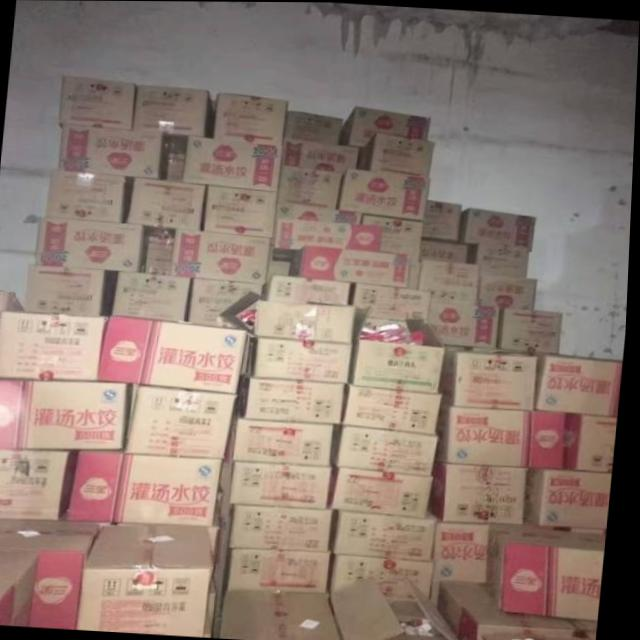box: (82, 524, 218, 637), (72, 450, 226, 526), (0, 519, 105, 630), (491, 524, 611, 621), (102, 316, 250, 391), (0, 378, 132, 450), (444, 578, 584, 640), (352, 306, 449, 394), (439, 405, 571, 469), (127, 385, 242, 458), (334, 576, 465, 640), (220, 533, 335, 600), (0, 311, 109, 381), (223, 496, 339, 551), (226, 589, 347, 640), (39, 218, 151, 273), (60, 125, 172, 179), (444, 348, 540, 410), (435, 463, 532, 523), (540, 352, 626, 417), (223, 459, 336, 508), (185, 135, 283, 191), (172, 229, 273, 283), (338, 425, 441, 477), (335, 510, 440, 561), (530, 467, 616, 529), (334, 467, 438, 518), (0, 449, 74, 520), (291, 245, 411, 287), (230, 418, 337, 465), (274, 218, 385, 263), (345, 385, 446, 434), (244, 376, 347, 424), (436, 521, 493, 606), (333, 555, 438, 600), (341, 167, 430, 220), (364, 213, 425, 288), (257, 336, 354, 383), (258, 299, 360, 342), (46, 170, 128, 222), (129, 177, 207, 230), (133, 83, 211, 136), (28, 265, 106, 316), (115, 271, 193, 322), (62, 76, 137, 128), (205, 185, 278, 238), (216, 93, 290, 145), (190, 278, 265, 328), (342, 106, 433, 146), (359, 132, 437, 176), (462, 207, 537, 252), (355, 283, 433, 325), (0, 550, 42, 627), (570, 412, 621, 471), (280, 166, 344, 208), (284, 137, 360, 171), (267, 275, 353, 305), (421, 260, 481, 302), (500, 308, 557, 352), (428, 298, 480, 346), (481, 273, 540, 309), (279, 199, 365, 223), (470, 243, 529, 276), (287, 110, 343, 143), (425, 199, 464, 242), (423, 238, 473, 262), (477, 306, 501, 351)
